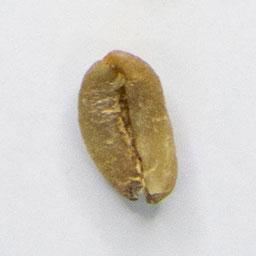longberry: (73, 45, 182, 208)
